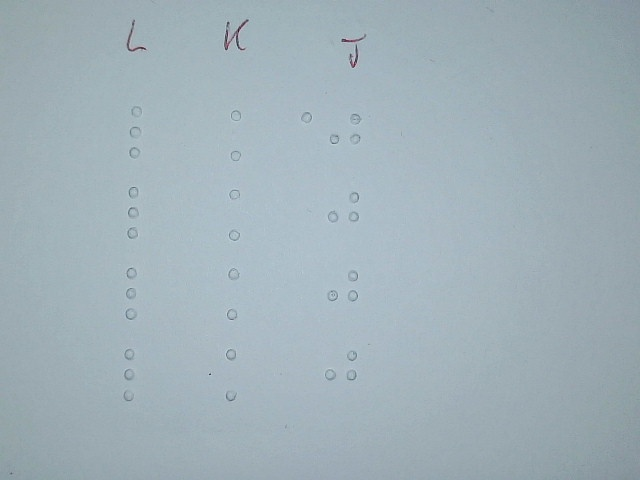J: (326, 103, 364, 162), (323, 184, 361, 243), (323, 261, 361, 320), (322, 341, 360, 400)
K: (221, 105, 267, 165), (221, 184, 267, 244), (218, 264, 264, 324), (216, 345, 262, 405)
L: (120, 101, 166, 161), (118, 182, 164, 242), (116, 263, 162, 323), (114, 343, 160, 403)
